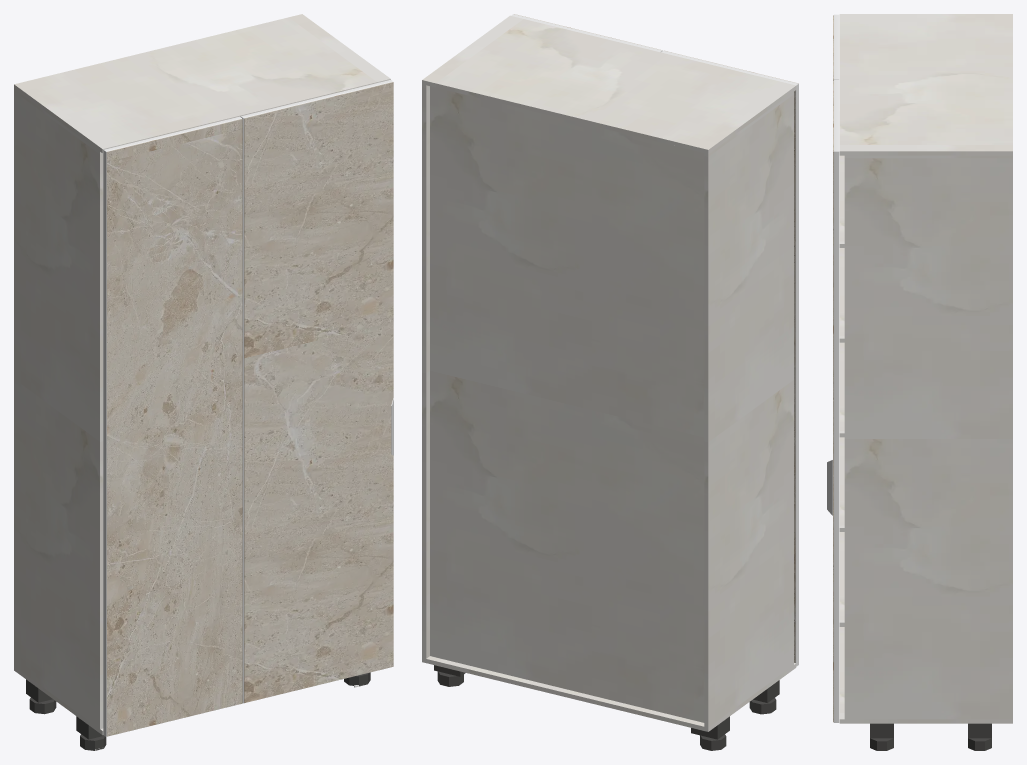
Rendered from S550_TBC5S1HS_LH (H2040XW1050XD560).glb.
The picture shows the model from 3 angles, left to right: view 1: azimuth 30°, elevation 25°; view 2: azimuth 150°, elevation 25°; view 3: azimuth 270°, elevation 25°; orthographic projection. The views are drawn at different scales.
Size of what is drawn, in the model's own units: 1.05 by 2.14 by 0.6.
Materials: 5 (2 with a texture image).
